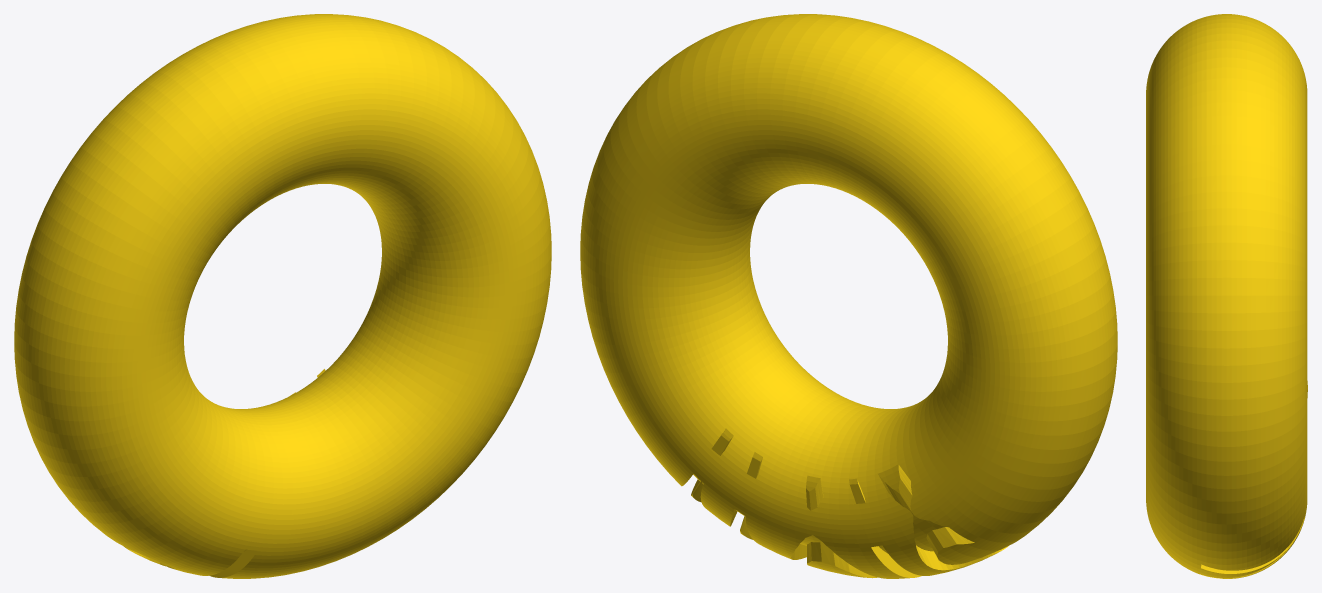
Rendered from slow.obj.
3 views of the same model, side by side, from view 1: azimuth 30°, elevation 25°; view 2: azimuth 150°, elevation 25°; view 3: azimuth 270°, elevation 25° (orthographic). The views are drawn at different scales.
Visible parts, largest first — view 1: Object.1; view 2: Object.1; view 3: Object.1.
Part boxes in pixels (x1=…): Object.1: x1=14, y1=14, x2=551, y2=578; Object.1: x1=580, y1=14, x2=1117, y2=578; Object.1: x1=1146, y1=14, x2=1307, y2=578.
Size of the model in its own units: 70 by 70 by 20.06.
